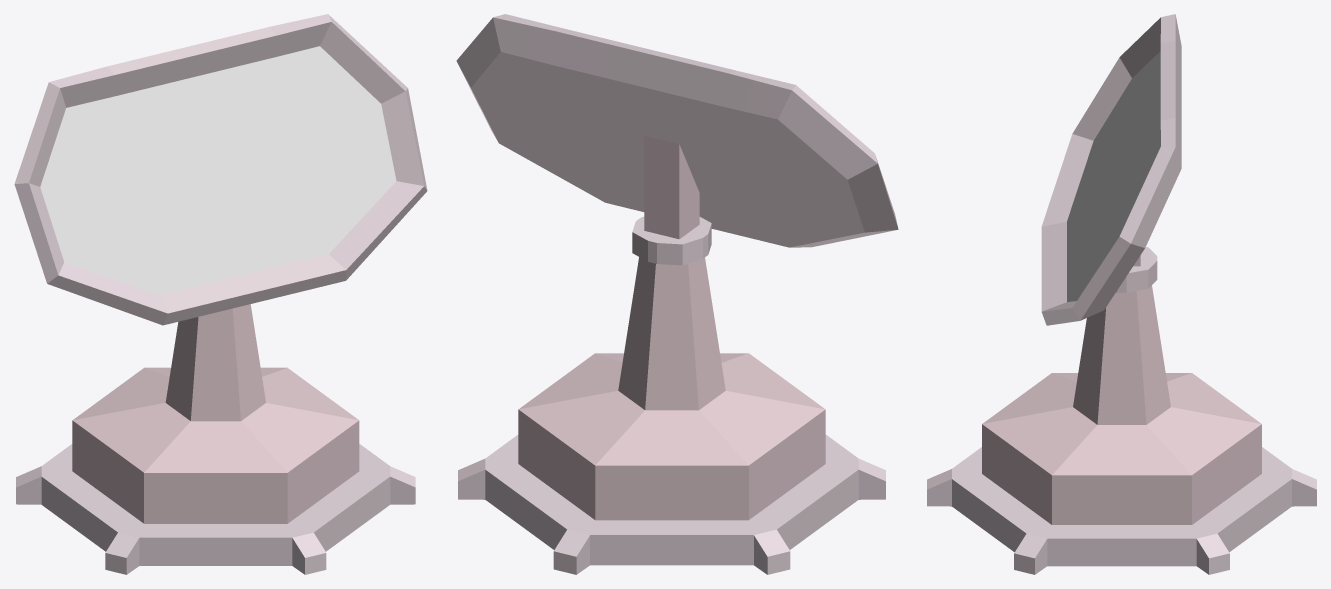
File: SolarPanel.fbx
3 views of the same model, side by side, from view 1: azimuth 30°, elevation 25°; view 2: azimuth 150°, elevation 25°; view 3: azimuth 270°, elevation 25° (orthographic). The views are drawn at different scales.
Visible parts, largest first — view 1: Panel, Base; view 2: Base, Panel; view 3: Base, Panel.
Part boxes in pixels (box(x1,y1,x2,y2)): Panel: box(14, 14, 427, 325); Base: box(16, 304, 415, 574); Base: box(458, 257, 885, 574); Panel: box(456, 14, 898, 265); Base: box(927, 285, 1316, 574); Panel: box(1041, 14, 1181, 325).
Bounding box in the file's own units: 317 × 333 × 279.
